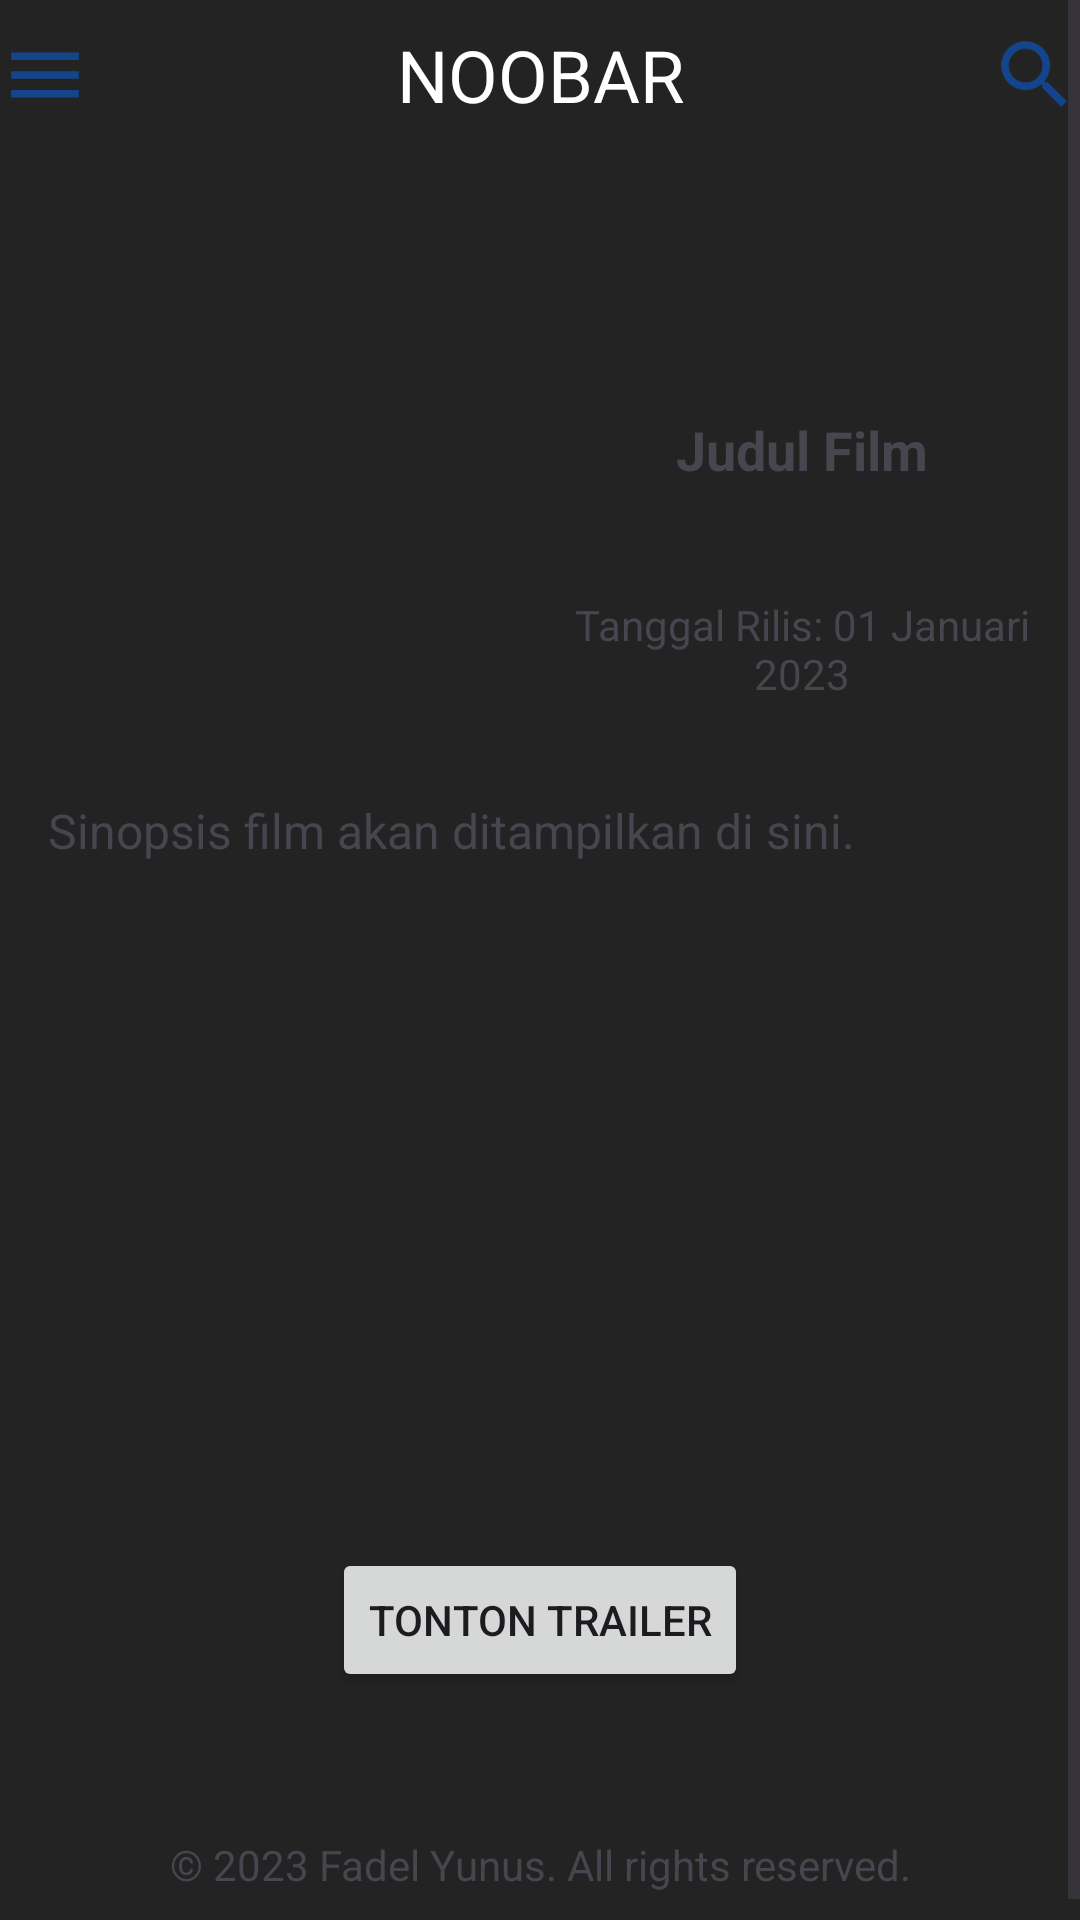

Icon bounding boxes for this 1080 × 1920 phone screenshot, format (x1, y1, x2, y2):
menu: (11, 52, 79, 98)
search: (1001, 41, 1067, 107)
